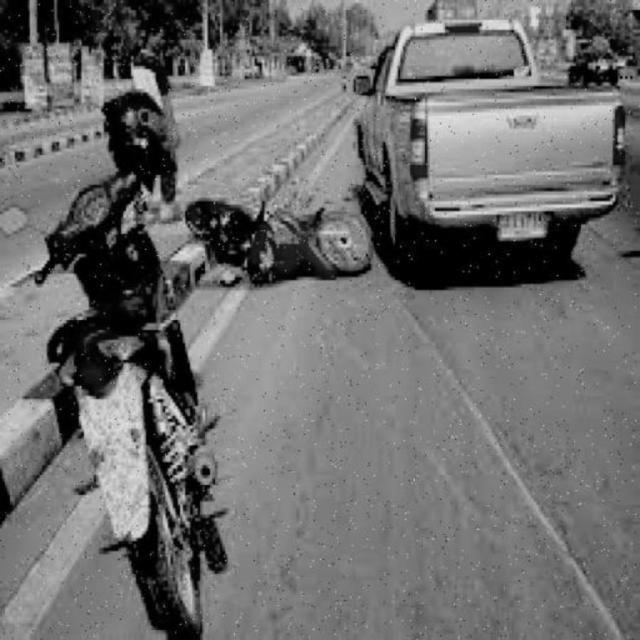accident: (195, 23, 586, 281)
person: (128, 19, 185, 173)
vehicle: (46, 179, 224, 625)
